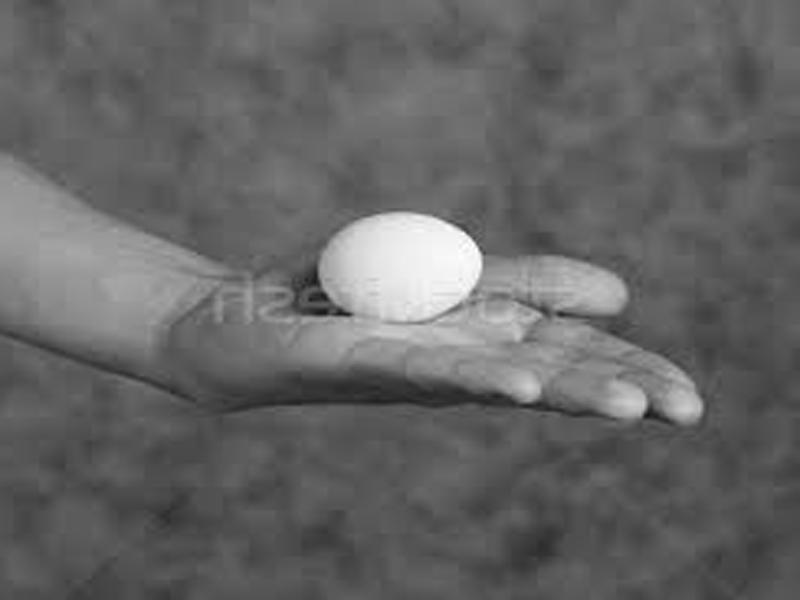Eggs: (317, 209, 481, 322)
